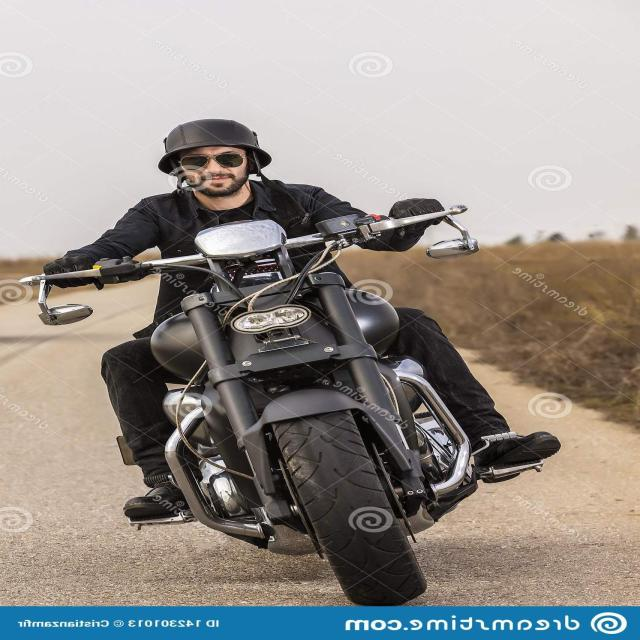helmet: (141, 110, 277, 197)
